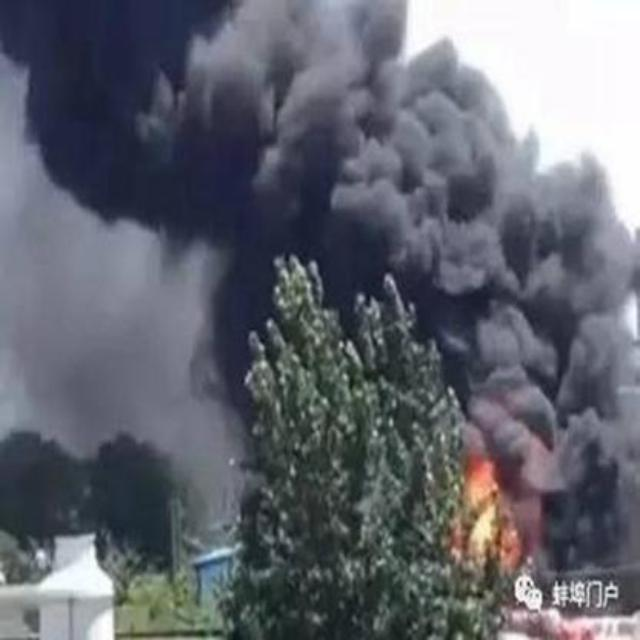Fire: (449, 453, 519, 575)
Smoke: (7, 4, 633, 280), (428, 281, 632, 453), (530, 457, 640, 573), (199, 286, 269, 424)
